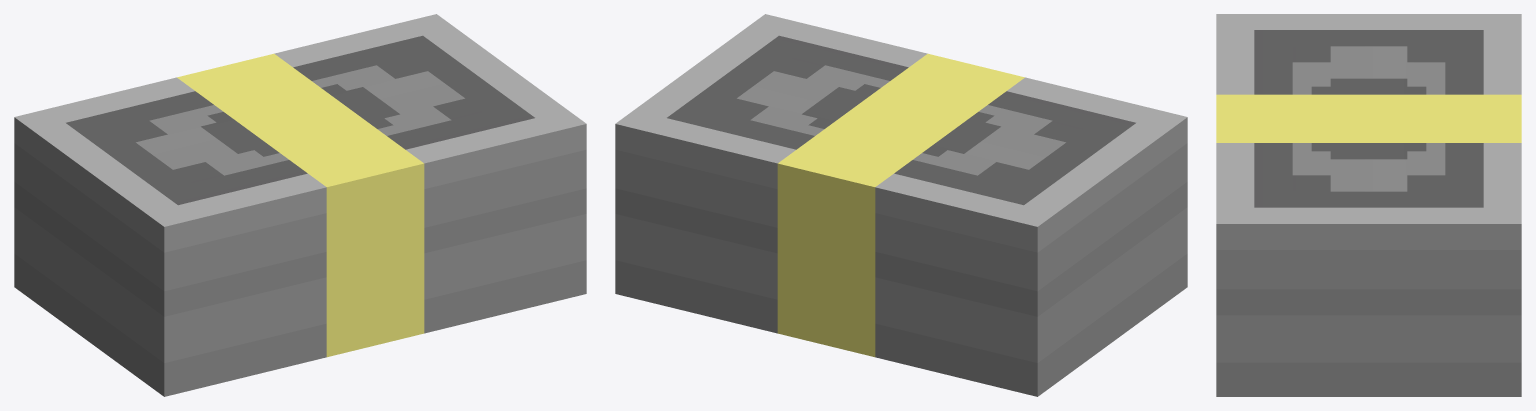
Rendered from CashB.fbx.
The picture shows the model from 3 angles, left to right: view 1: azimuth 30°, elevation 25°; view 2: azimuth 150°, elevation 25°; view 3: azimuth 270°, elevation 25°; orthographic projection.
Visible parts, largest first — view 1: CashB; view 2: CashB; view 3: CashB.
Boxes of the visible parts, x1=… form: CashB: x1=14, y1=14, x2=586, y2=396; CashB: x1=615, y1=14, x2=1187, y2=396; CashB: x1=1216, y1=14, x2=1521, y2=396.
Size of the model in its own units: 130 by 50 by 80.
